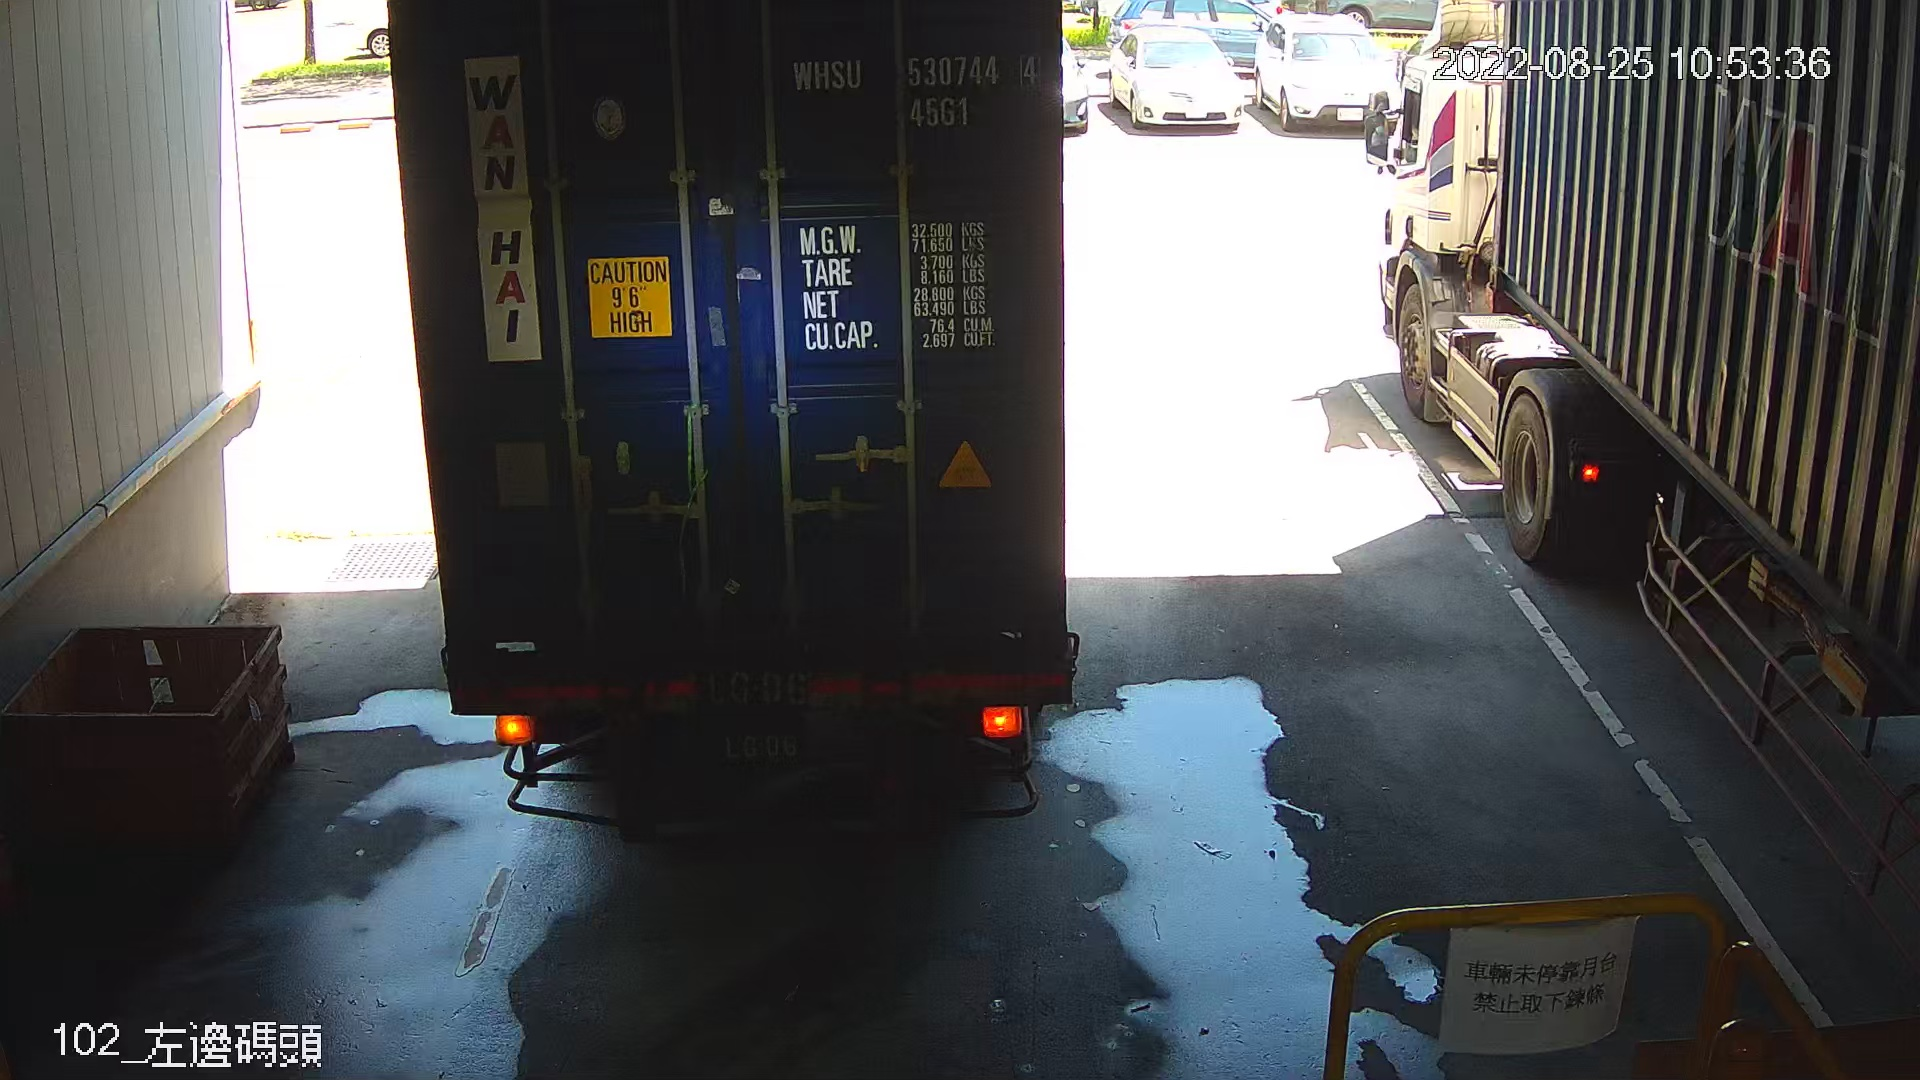container: (785, 42, 1051, 136)
